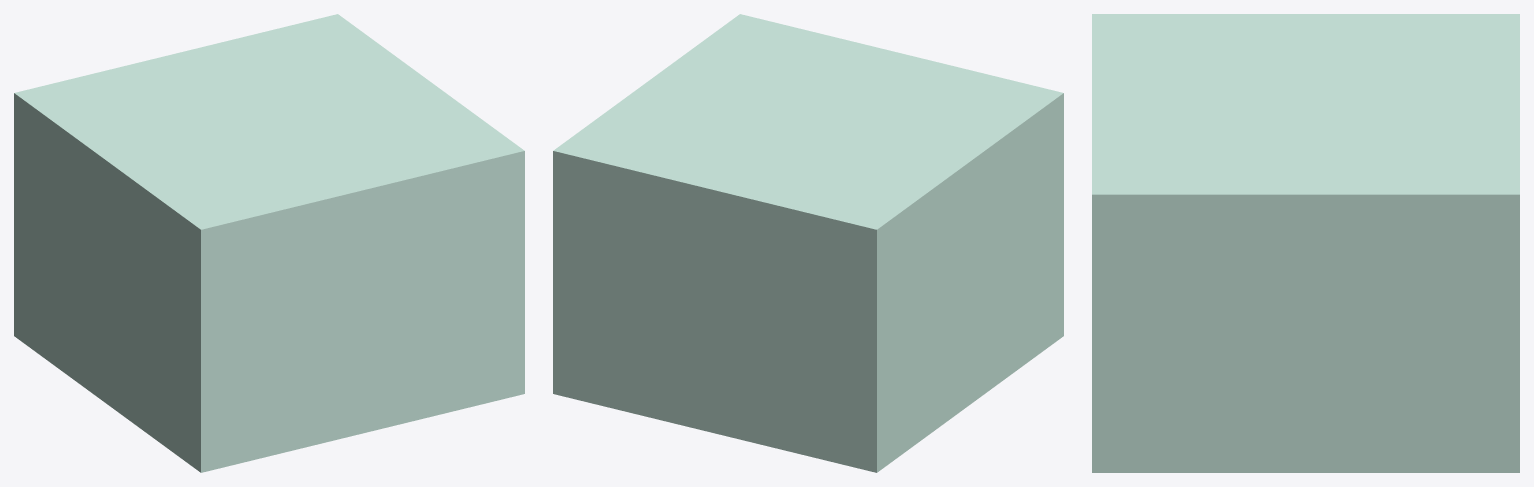
3 views of the same model, side by side, from view 1: azimuth 30°, elevation 25°; view 2: azimuth 150°, elevation 25°; view 3: azimuth 270°, elevation 25° (orthographic). The views are drawn at different scales.
Parts seen in each view (by area): view 1: Renderer Node; view 2: Renderer Node; view 3: Renderer Node.
Boxes of the visible parts, x1,y1,x2,y2 form: Renderer Node: (14, 14, 524, 472); Renderer Node: (553, 14, 1063, 472); Renderer Node: (1092, 14, 1519, 472).
Size of the model in its own units: 1.38 by 0.9922 by 1.38.
